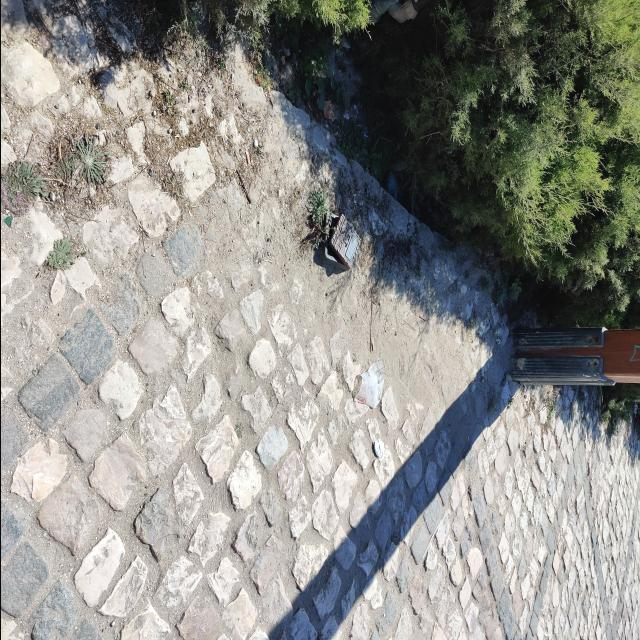Broken glass: (2, 215, 12, 229)
Cigarette: (244, 152, 250, 164), (370, 337, 374, 351)
Disposable plastic cup: (354, 359, 384, 409)
Unlabeled litter: (421, 522, 439, 560), (373, 439, 383, 457)
